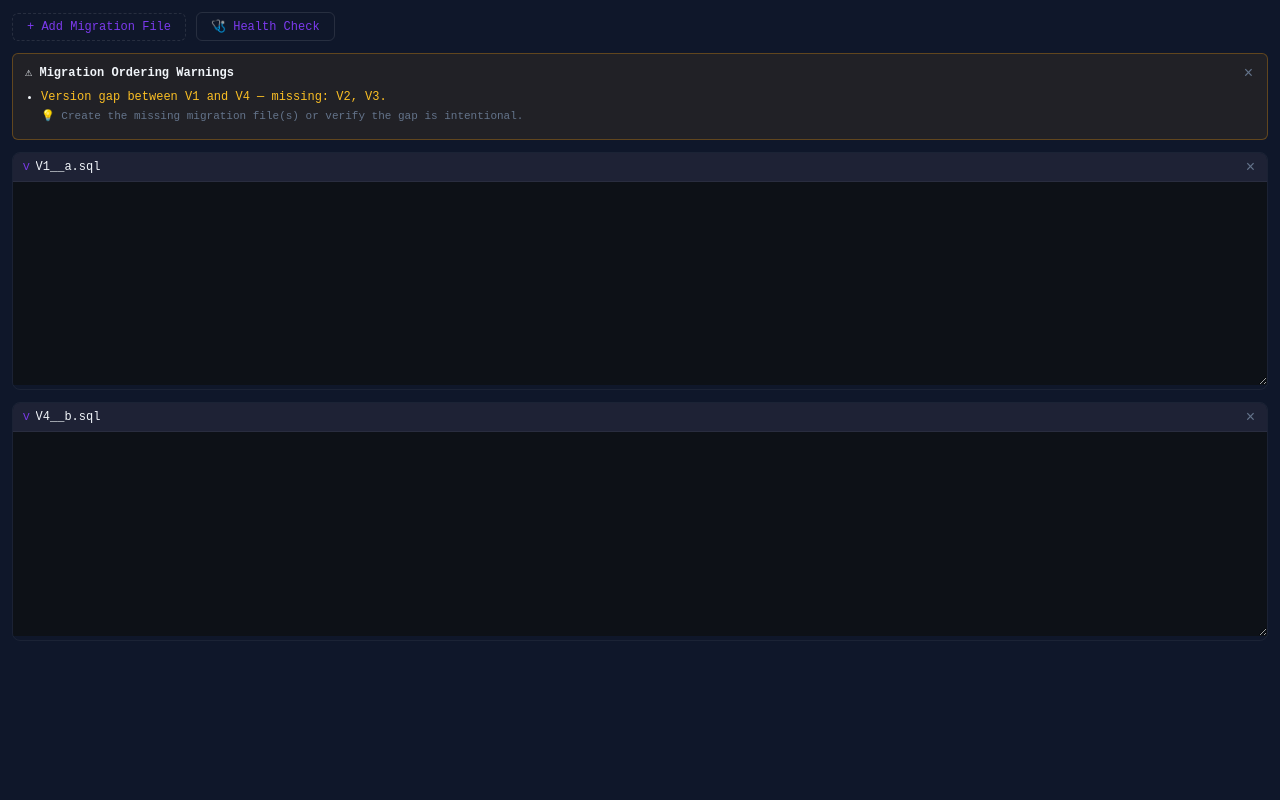
Scenario: MigrationsTab › validation banner — auto-runs on mount › dismisses the banner when × is clicked
What coordinates should you click on to do the following:
click the button "×" in the row of "⚠ Migration Ordering Warnings"
I would click on:
 (1248, 73)
Its box is [1242,65,1255,81].
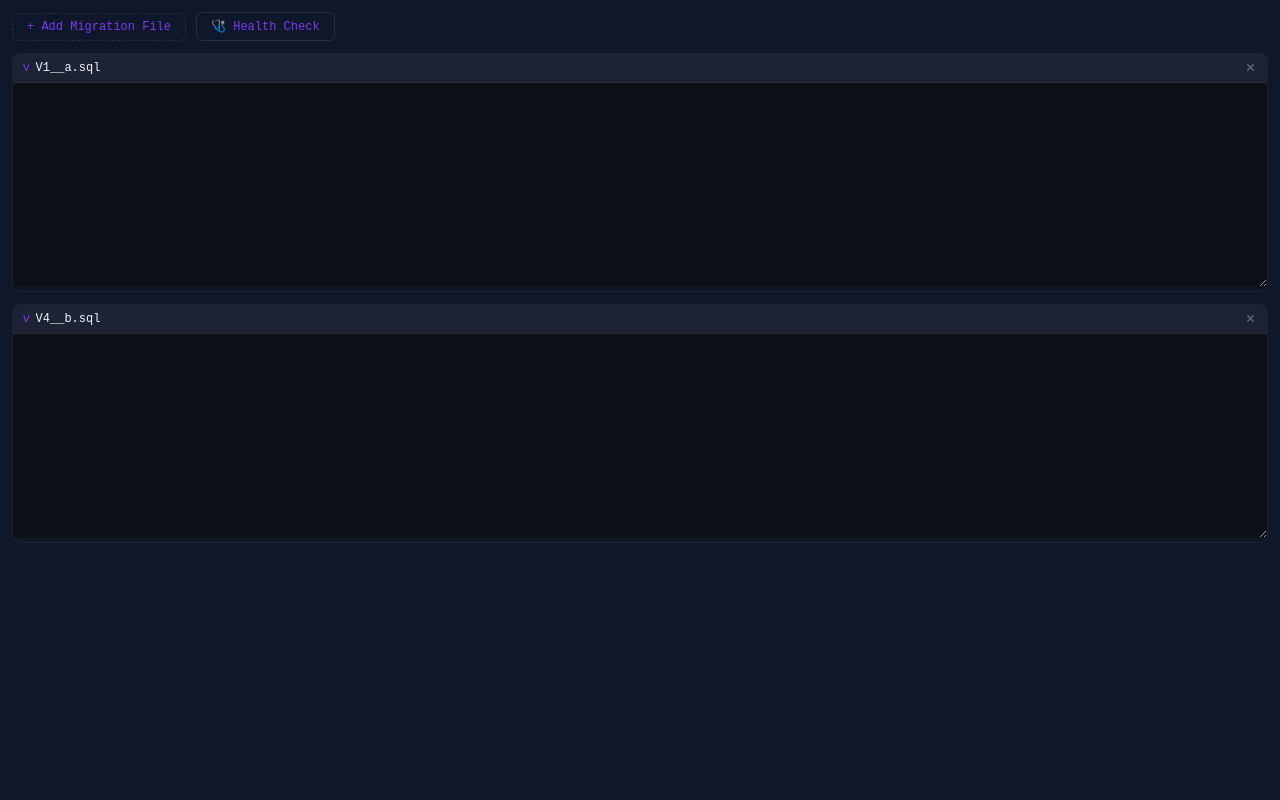
Expected: the message is gone
